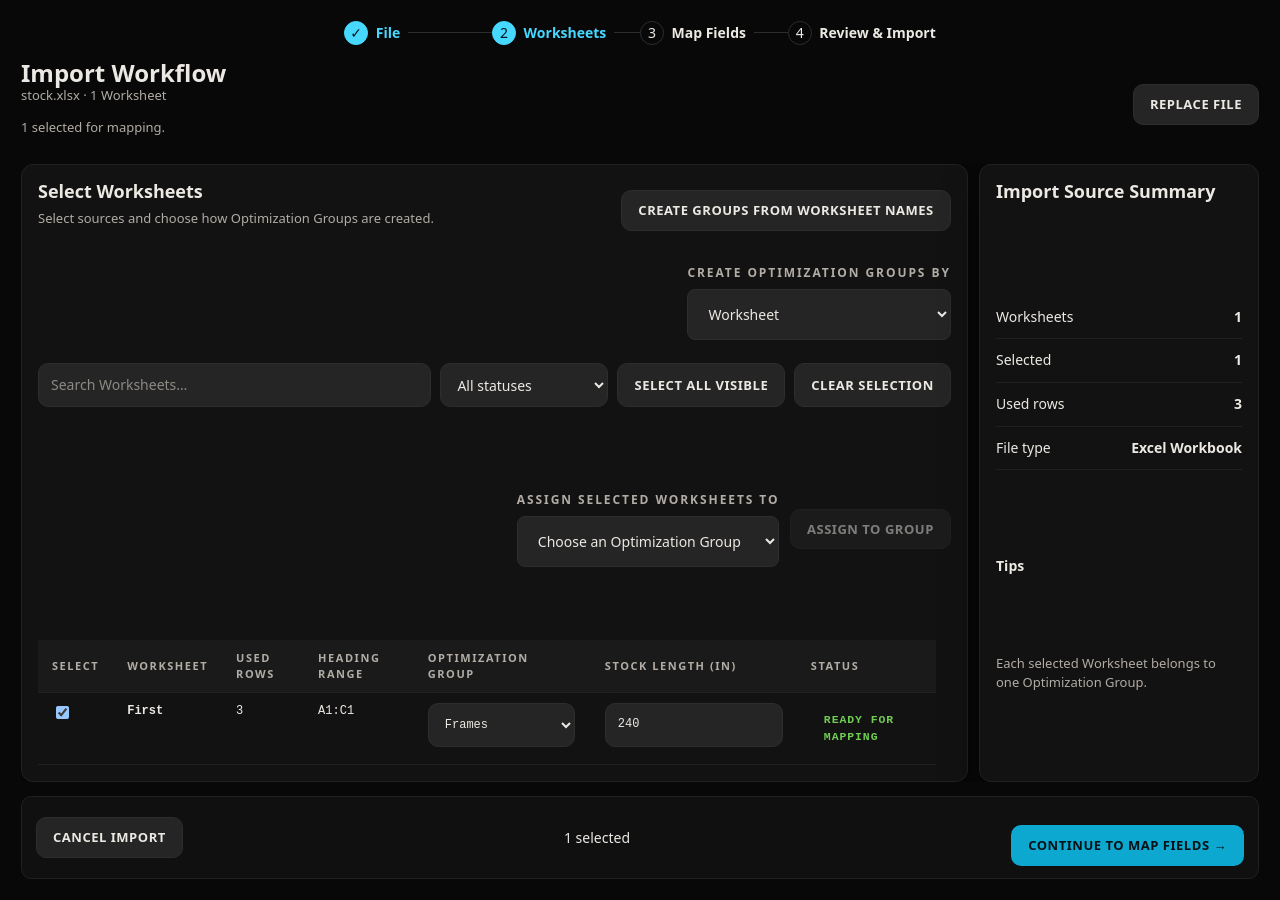
it: Stock-Length Import Workflow › moves through Worksheet selection, mapping, and review while preserving Back state
This screenshot has width=1280, height=900.
Expected: the heading "Select Worksheets" is shown, [38,179,203,203]
Expected: the cell "3" is shown, [222,693,304,765]
What coordinates should you click on to do the following:
click the button "Continue to Map Fields →"
I would click on:
 (1128, 846)
Its box is [1011,825,1244,866].
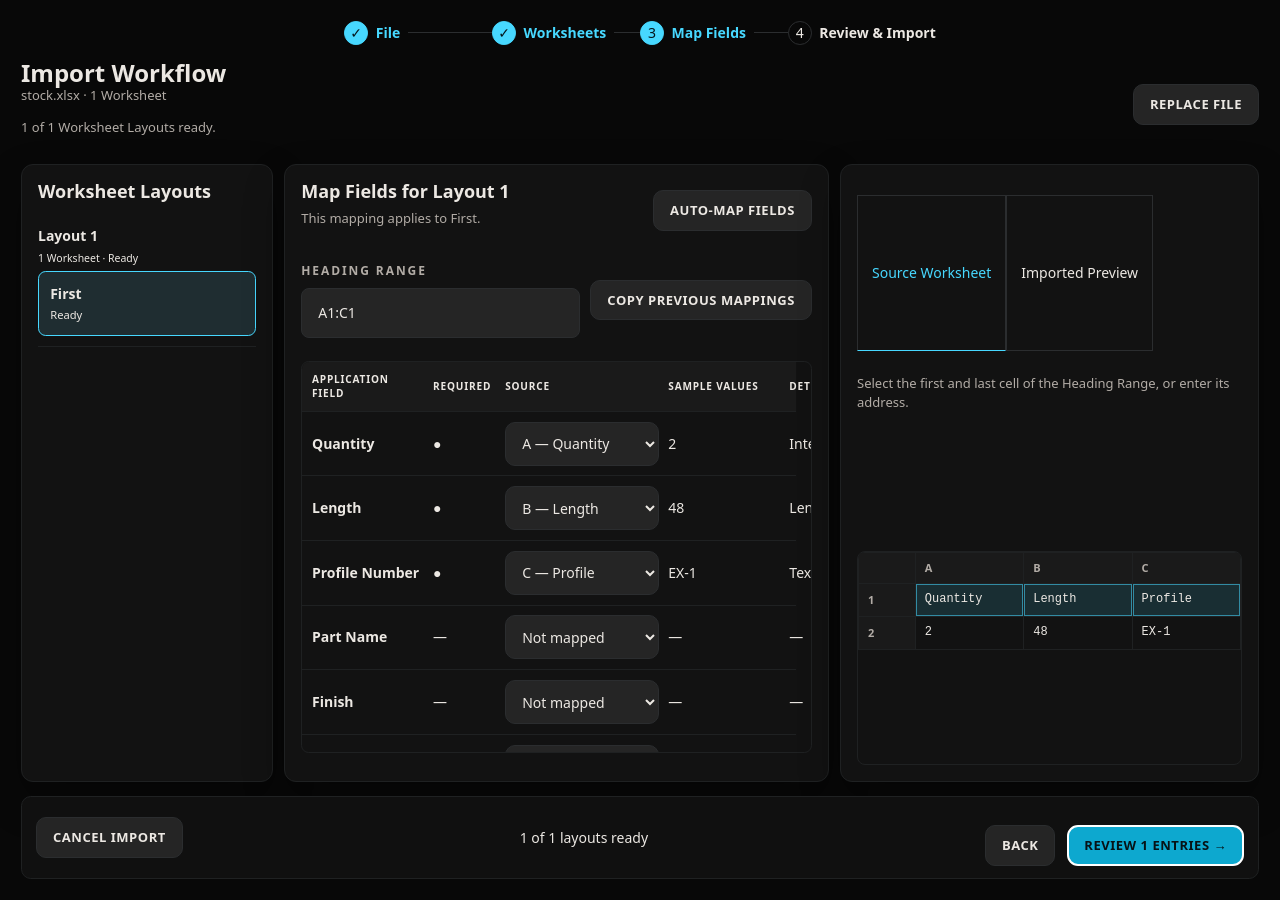
Result: the heading "Map Fields for Layout 1" is shown at [301,181,510,203]
Result: the element named "First cell preview" is shown at [857,551,1242,765]
What coordinates should you click on to do the following:
click the button "Review 1 Entries →"
I would click on:
 (1156, 846)
Its box is [1067,825,1244,866].
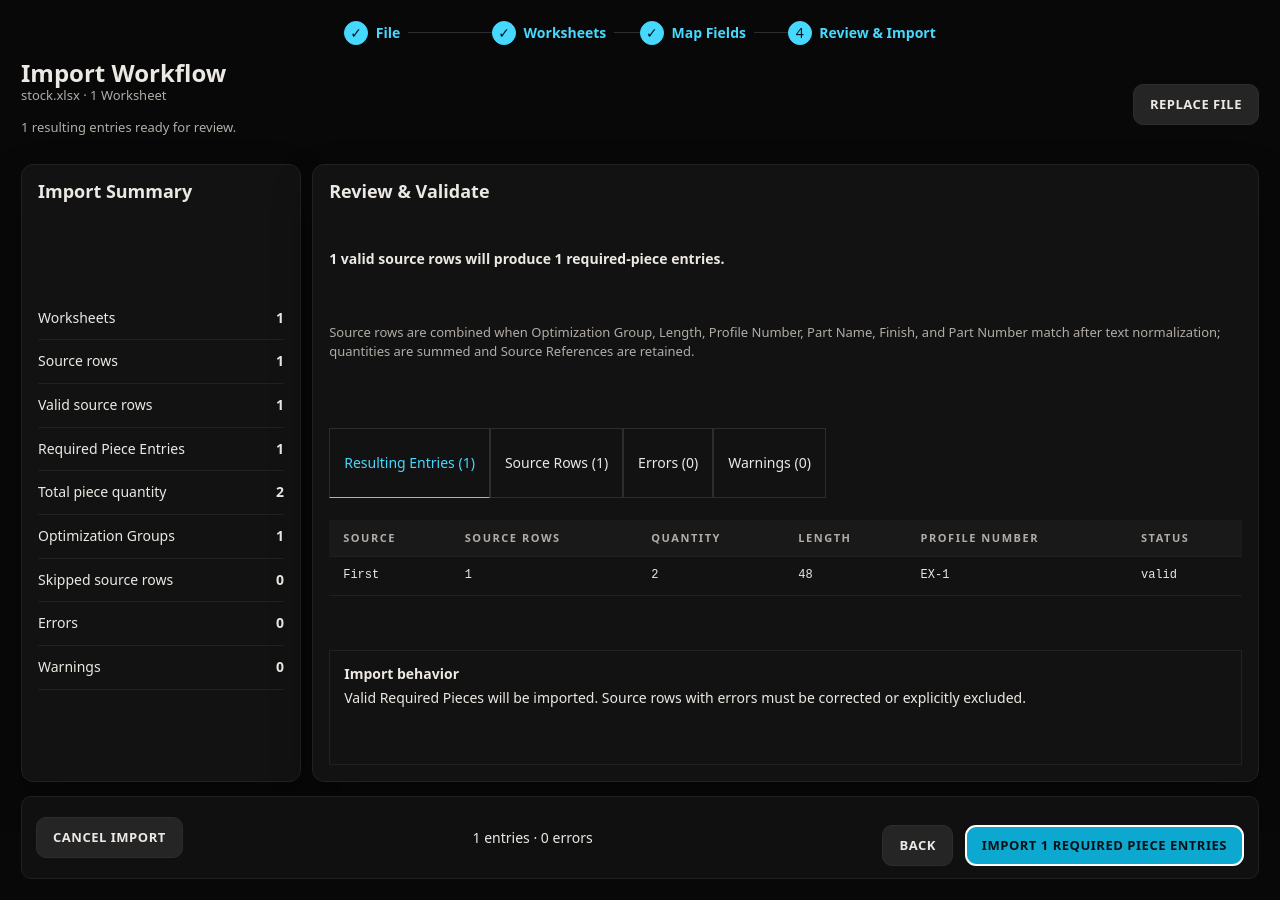
Result: the heading "Review & Validate" is shown at [329,179,490,203]
What coordinates should you click on to do the following:
click the button "Back"
I would click on:
 (918, 846)
Its box is [882,825,953,866].
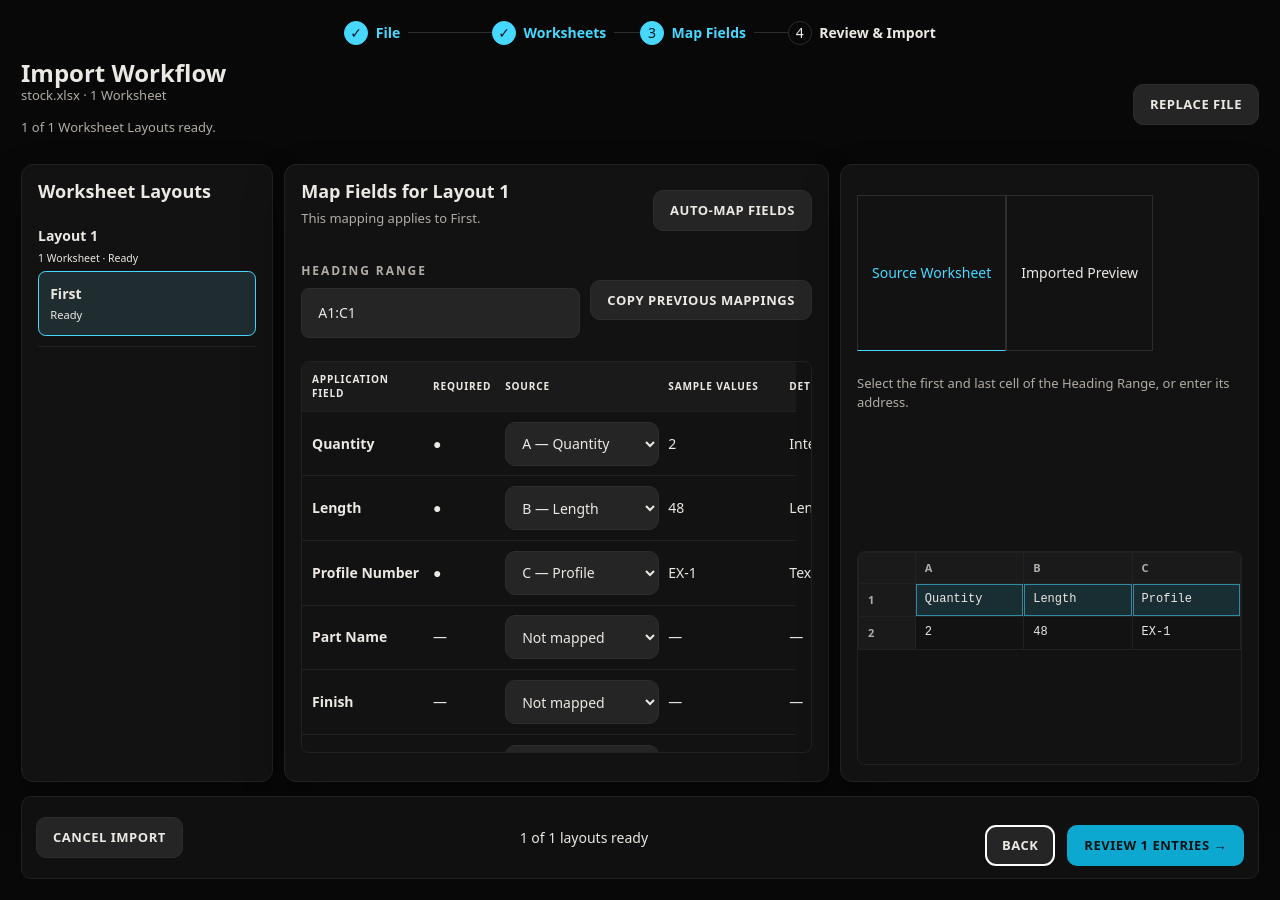
Result: the heading "Map Fields for Layout 1" is shown at [301,181,510,203]
Result: the dropdown named "First column for Quantity" shows "A — Quantity" at [505,422,659,466]
